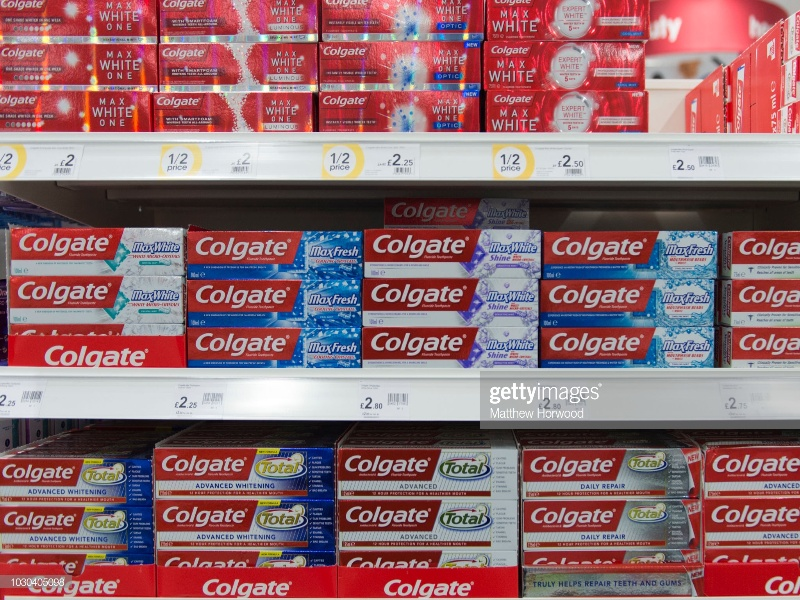colgate-medium: (520, 443, 700, 504), (152, 446, 335, 500), (334, 449, 518, 501), (185, 232, 362, 284), (521, 504, 704, 554), (361, 231, 543, 281), (157, 502, 336, 552), (336, 503, 520, 551), (540, 232, 719, 281), (6, 225, 181, 274), (185, 279, 361, 325), (542, 278, 715, 324), (5, 277, 185, 320), (359, 283, 539, 323), (188, 328, 363, 364), (363, 329, 539, 363), (543, 333, 716, 366)
